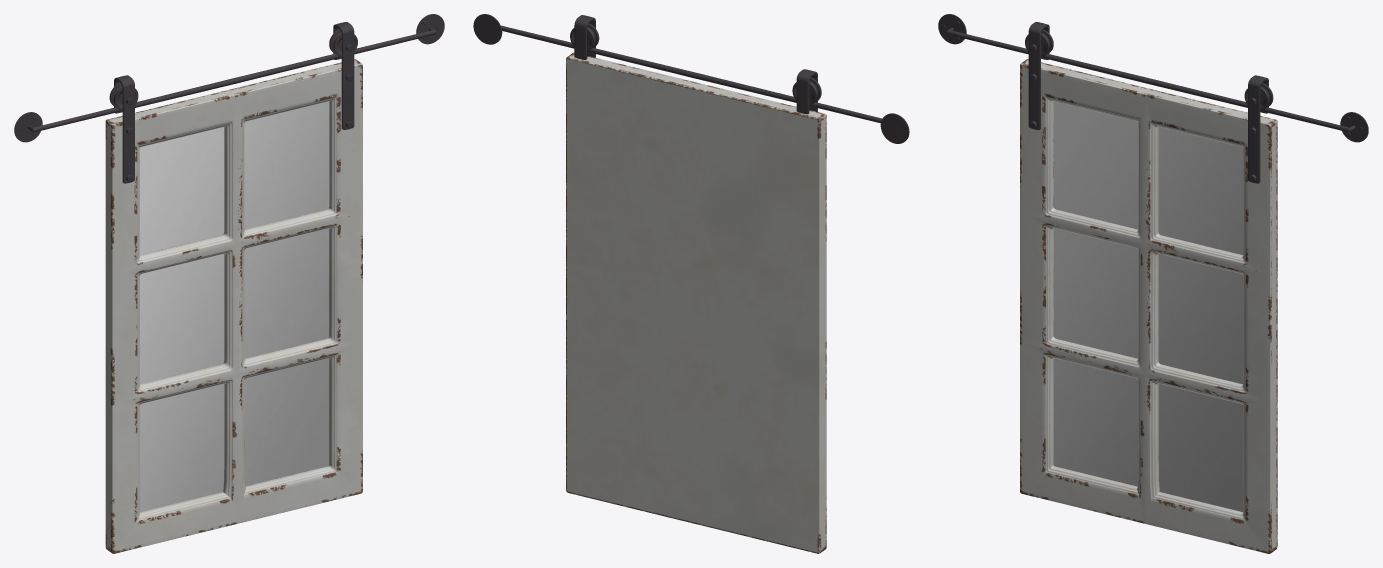
The model's file is abo-B073WGQBPY.glb.
3 renders of one model, left to right at view 1: azimuth 30°, elevation 25°; view 2: azimuth 150°, elevation 25°; view 3: azimuth 330°, elevation 25°, orthographic.
Size of the model in its own units: 0.808 by 0.844 by 0.037.
1 material, 1 textured.
